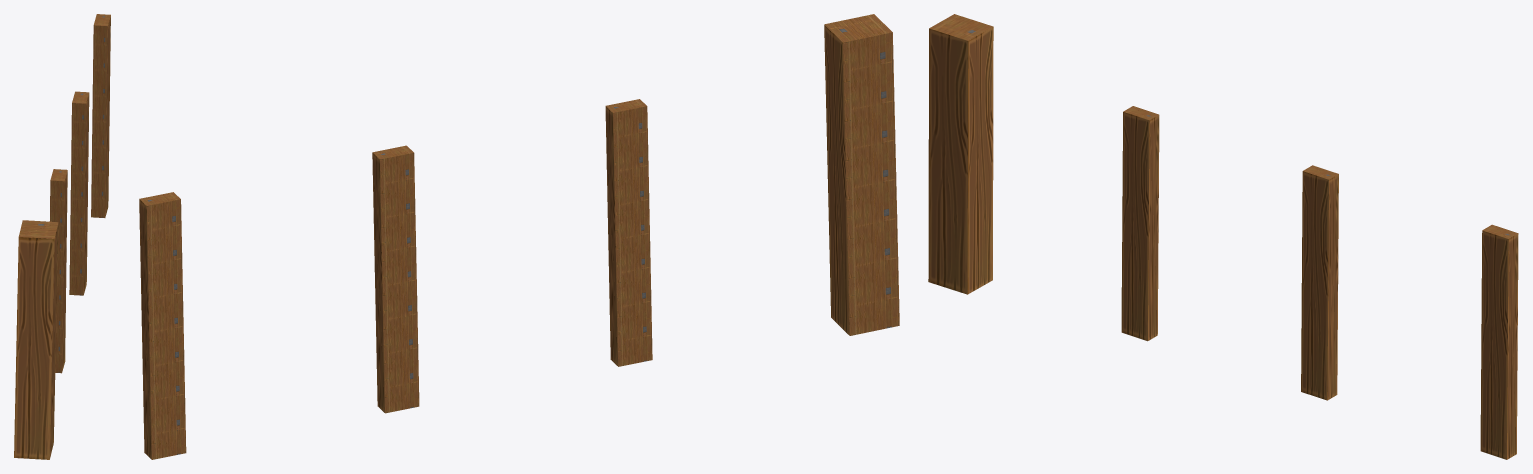
The picture shows the model from 3 angles, left to right: view 1: azimuth 30°, elevation 25°; view 2: azimuth 150°, elevation 25°; view 3: azimuth 270°, elevation 25°; orthographic projection. The views are drawn at different scales.
Parts seen in each view (by area): view 1: Cube.493; view 2: Cube.493; view 3: Cube.493.
Boxes of the visible parts, x1=… form: Cube.493: x1=14, y1=14, x2=110, y2=459; Cube.493: x1=139, y1=14, x2=899, y2=459; Cube.493: x1=928, y1=14, x2=1518, y2=459.
Bounding box in the file's own units: 262 × 166 × 342.
1 material, 1 textured.
